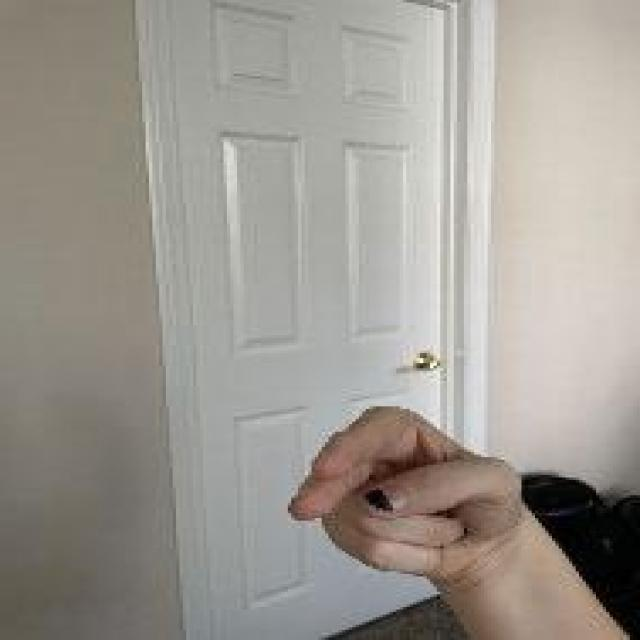H: (276, 400, 543, 573)
